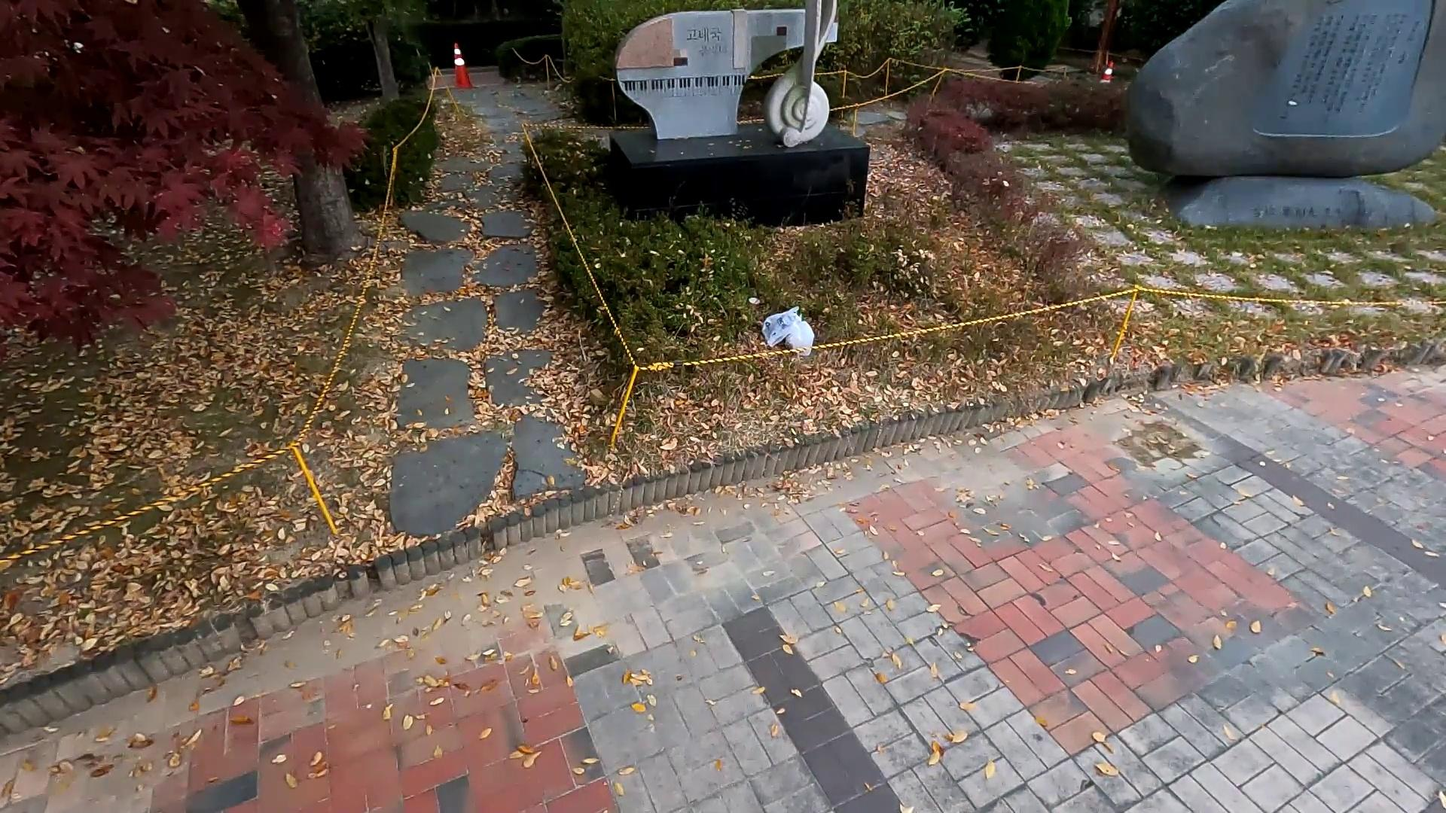trash: (781, 314, 819, 356), (765, 305, 803, 344)
